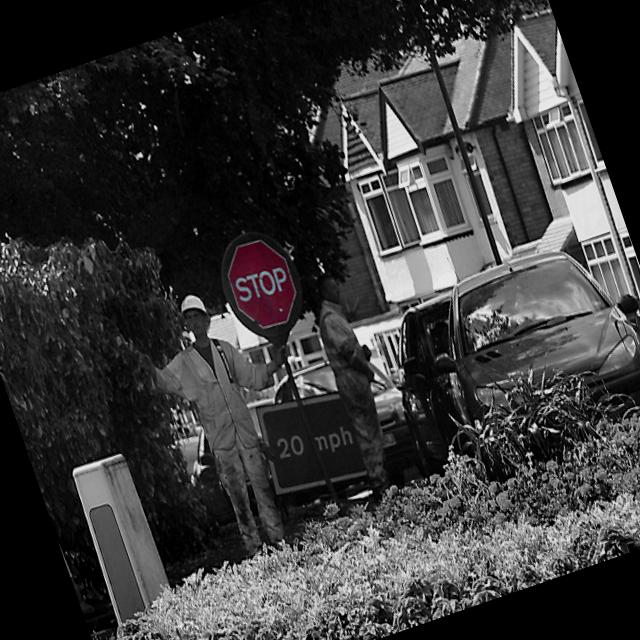Vehicle: (430, 230, 640, 462), (246, 340, 432, 526), (366, 290, 508, 490), (172, 396, 298, 506)
